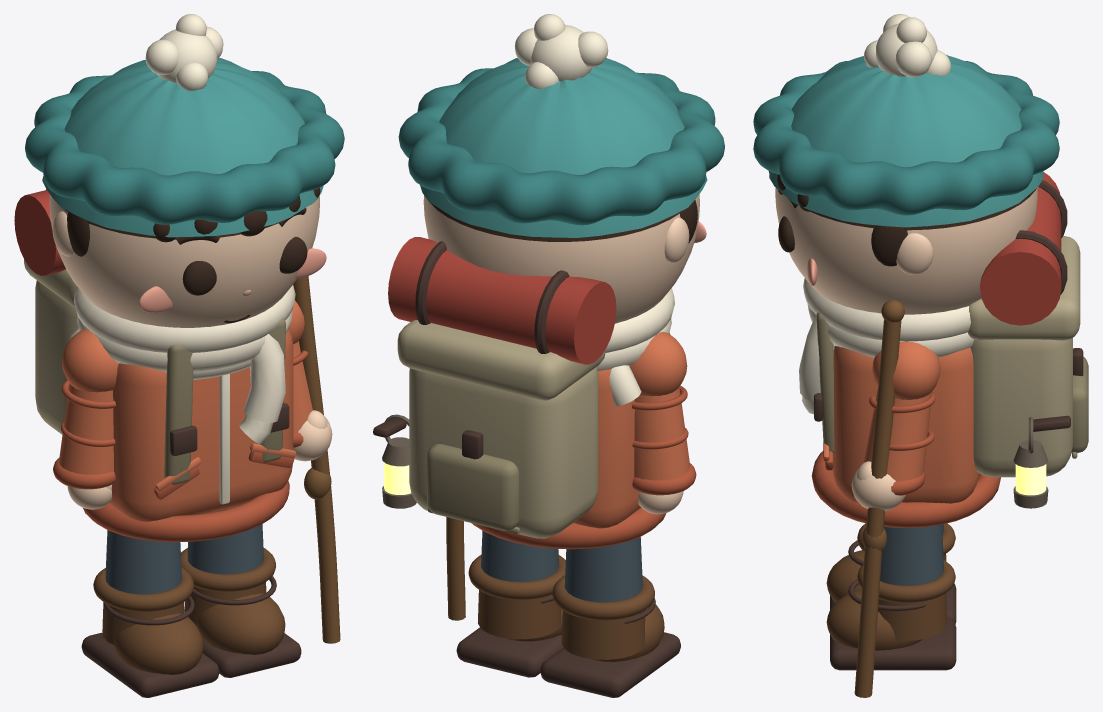
File: traveler.glb
3 views of the same model, side by side, from view 1: azimuth 30°, elevation 25°; view 2: azimuth 150°, elevation 25°; view 3: azimuth 270°, elevation 25° (orthographic). The views are drawn at different scales.
Parts seen in each view (by area): view 1: Beanie, BeanieBrim, Head, Jacket, ScarfWrap, Hem, Staff, PackBody, LegL, BootToeL, BootToeR, ArmL (+34 smaller); view 2: Beanie, BeanieBrim, PackBody, Bedroll, Head, PackFlap, PackPocket, Jacket, BootSoleL, LegL, ArmL, BootShaftL (+26 smaller); view 3: Beanie, BeanieBrim, Head, PackBody, Jacket, Bedroll, Staff, Hem, PackFlap, ScarfWrap, LegR, BootSoleR (+20 smaller).
Boxes of the visible parts, x1,y1,x2,y2 form: Beanie: [42, 57, 323, 237]; BeanieBrim: [25, 71, 344, 224]; Head: [49, 194, 319, 327]; Jacket: [109, 328, 293, 521]; ScarfWrap: [74, 285, 295, 352]; Hem: [83, 481, 289, 542]; Staff: [293, 276, 340, 643]; PackBody: [35, 280, 78, 434]; LegL: [105, 530, 181, 594]; BootToeL: [114, 613, 203, 674]; BootToeR: [196, 593, 285, 654]; ArmL: [59, 383, 113, 474]; Beanie: [420, 58, 707, 237]; BeanieBrim: [398, 68, 724, 225]; PackBody: [409, 367, 598, 538]; Bedroll: [388, 237, 616, 364]; Head: [423, 194, 699, 323]; PackFlap: [397, 320, 605, 400]; PackPocket: [427, 444, 519, 530]; Jacket: [573, 333, 670, 528]; BootSoleL: [540, 632, 680, 697]; LegL: [564, 537, 642, 602]; ArmL: [634, 387, 689, 480]; BootShaftL: [561, 610, 645, 659]; Beanie: [769, 55, 1043, 227]; BeanieBrim: [753, 61, 1059, 215]; Head: [775, 187, 1037, 314]; PackBody: [970, 338, 1072, 477]; Jacket: [833, 345, 979, 503]; Bedroll: [980, 172, 1061, 325]; Staff: [854, 319, 901, 697]; Hem: [811, 451, 1000, 528]; PackFlap: [967, 236, 1080, 340]; ScarfWrap: [803, 278, 970, 341]; LegR: [880, 524, 943, 585]; BootSoleR: [830, 618, 956, 670].
Size of the model in its own units: 0.61 by 1.33 by 0.6517.
